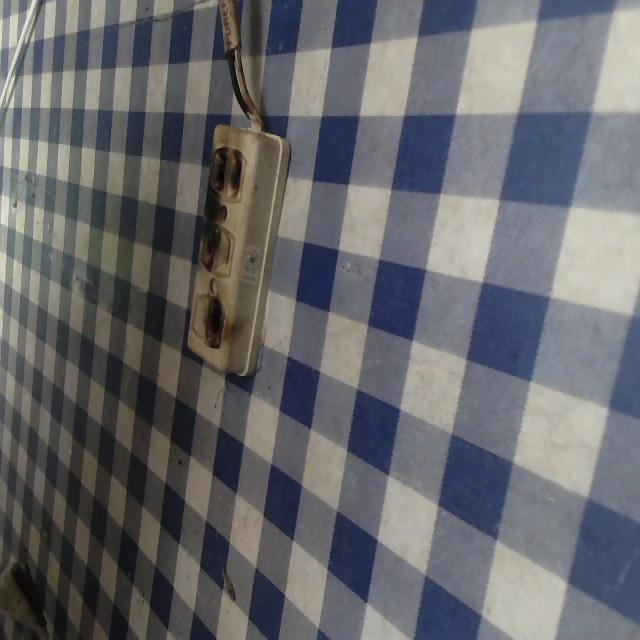-: (208, 136, 246, 208), (206, 293, 227, 352), (195, 220, 219, 271)
